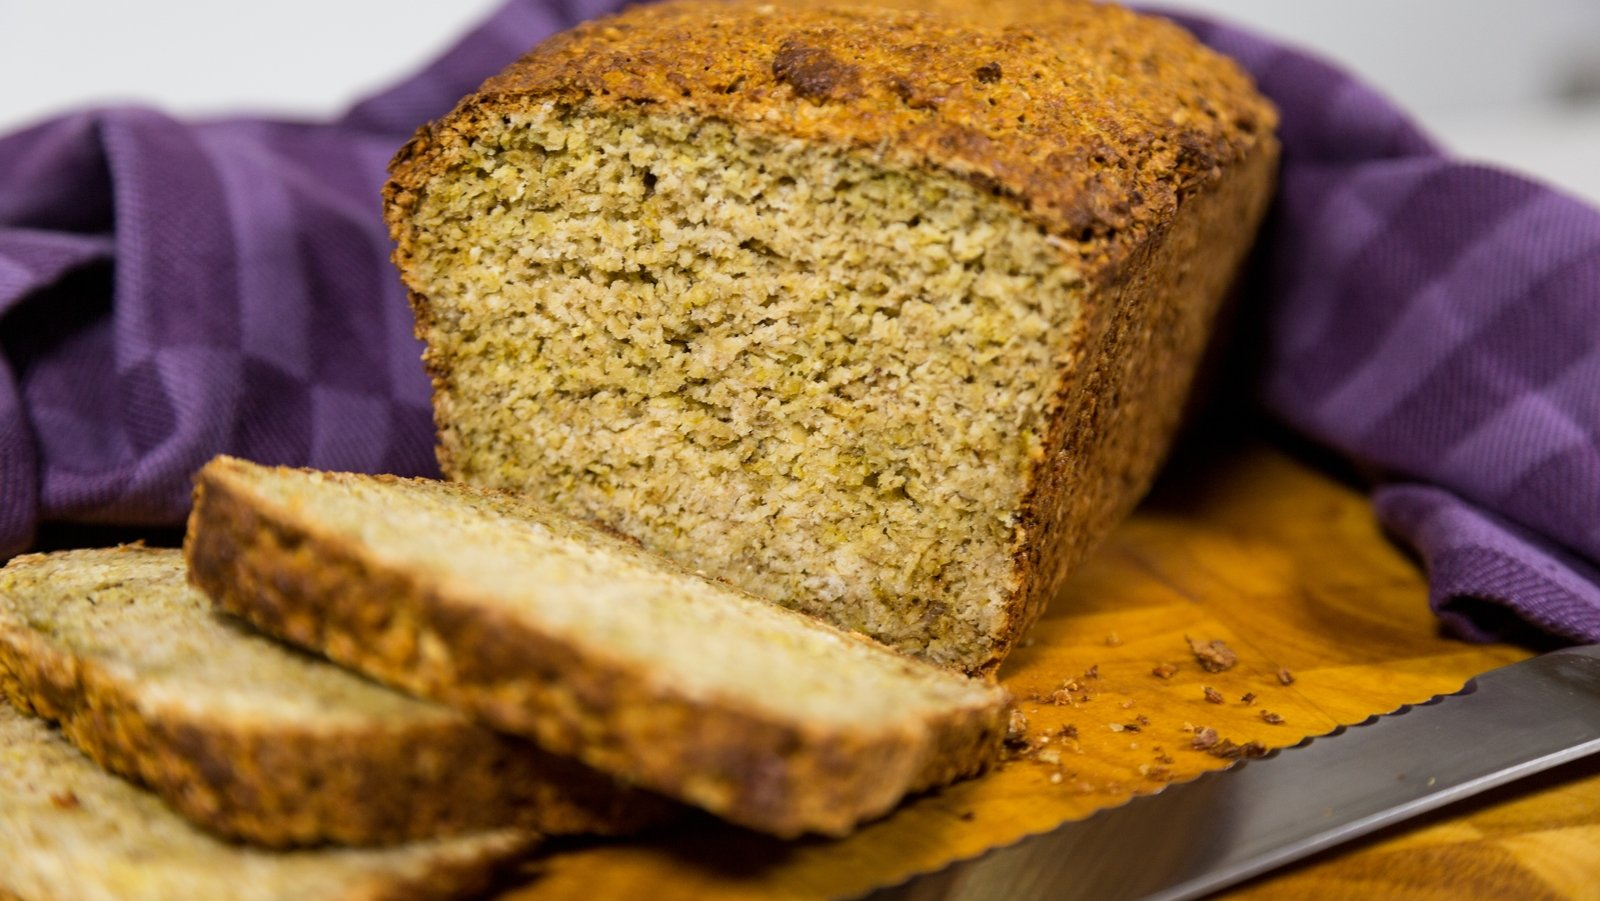Bread: (13, 36, 1300, 855)
